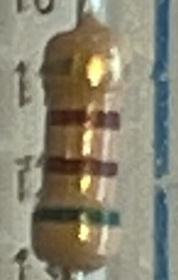Brown: (47, 109, 121, 132), (45, 158, 116, 176)
Green: (33, 206, 120, 228)
Side-Gold: (43, 54, 124, 82)
